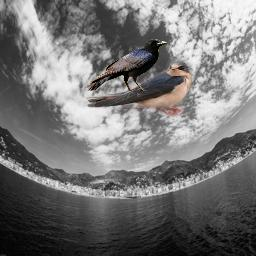Crow: (88, 38, 167, 91)
Swallow: (85, 58, 192, 117)
